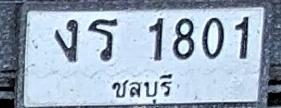0: (202, 17, 224, 59)
1: (234, 16, 248, 59), (149, 18, 163, 60)
8: (173, 17, 194, 60)
A07: (54, 19, 78, 62)
A35: (88, 18, 118, 61)
CBI: (110, 71, 176, 108)
